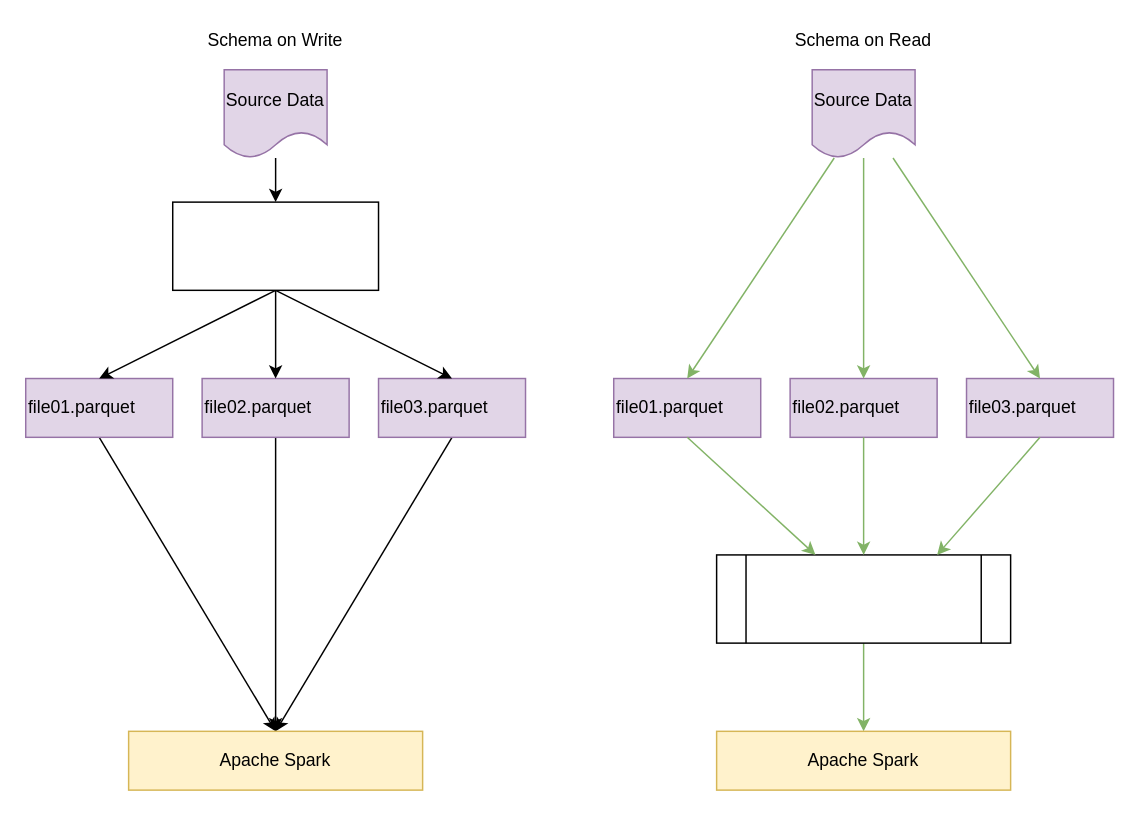
Image size: 1139x816. Some labels were removed from this diagram. Each missing label, with the box of its shape:
JAR: (715, 553, 1011, 643)
Transformation Tools: (171, 201, 379, 290)
